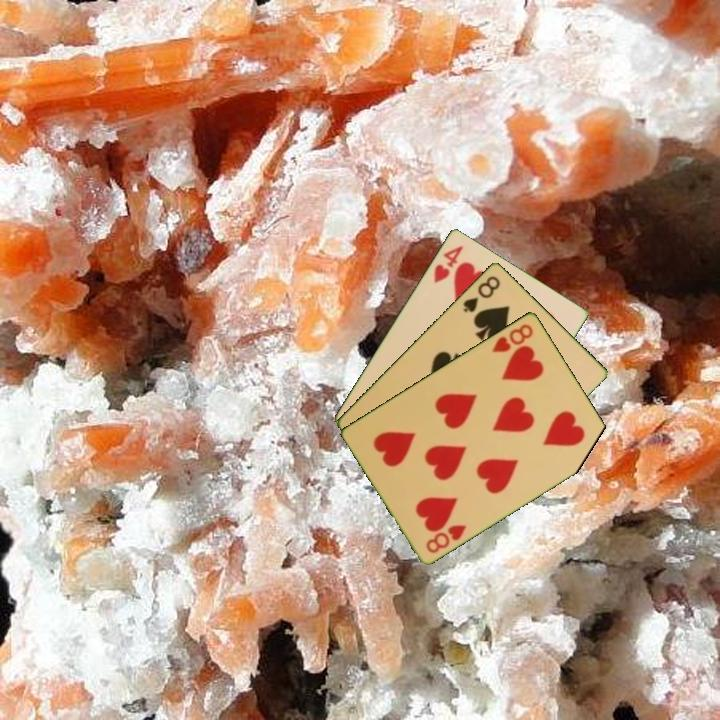4h: (430, 241, 466, 286)
8h: (422, 520, 469, 556), (489, 320, 536, 355)
8s: (459, 272, 503, 315)
